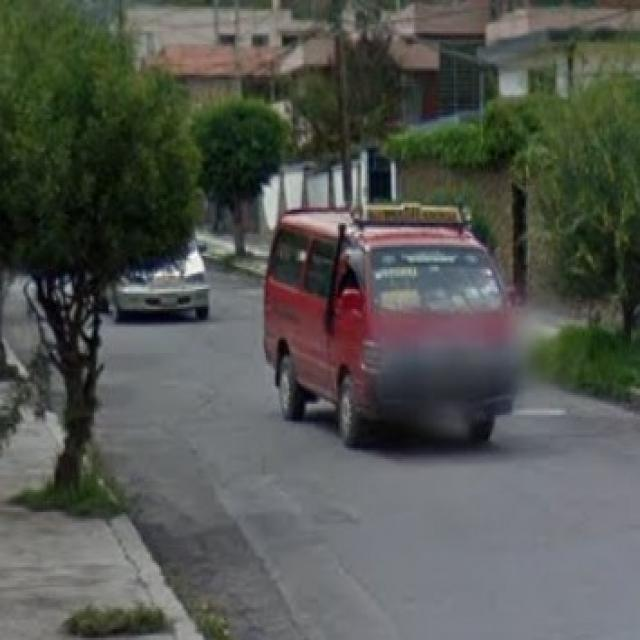Car: (270, 219, 509, 446)
